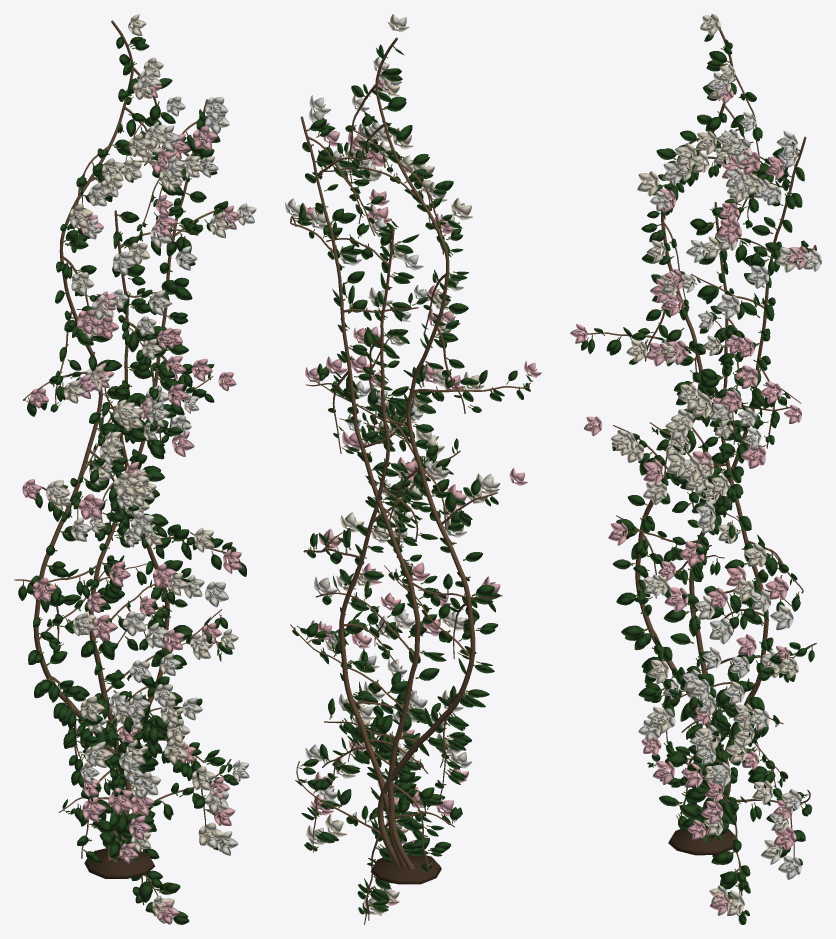
Rendered from climber_rose_white_45.glb.
3 renders of one model, left to right at view 1: azimuth 30°, elevation 25°; view 2: azimuth 150°, elevation 25°; view 3: azimuth 330°, elevation 25°, orthographic. The views are drawn at different scales.
Parts seen in each view (by area): view 1: Sammel Pflanze, Sammel Holz, Sammel Putz; view 2: Sammel Pflanze, Sammel Holz, Sammel Putz; view 3: Sammel Pflanze, Sammel Holz, Sammel Putz.
Boxes of the visible parts, x1=… form: Sammel Pflanze: x1=18, y1=14, x2=256, y2=924; Sammel Holz: x1=14, y1=20, x2=231, y2=924; Sammel Putz: x1=22, y1=33, x2=240, y2=918; Sammel Pflanze: x1=285, y1=14, x2=541, y2=915; Sammel Holz: x1=290, y1=37, x2=530, y2=924; Sammel Putz: x1=292, y1=46, x2=532, y2=915; Sammel Pflanze: x1=570, y1=14, x2=821, y2=924; Sammel Holz: x1=583, y1=14, x2=816, y2=910; Sammel Putz: x1=587, y1=44, x2=814, y2=915.
Bounding box in the file's own units: 1.33 × 4.83 × 0.4042.
